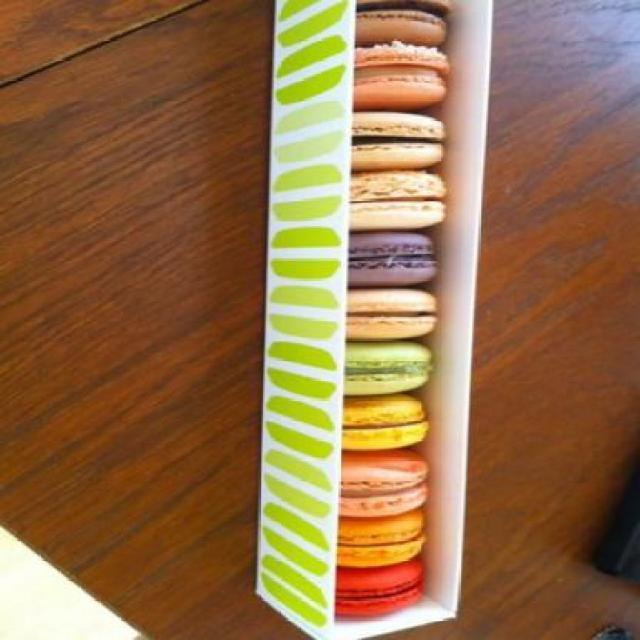Macaron: (332, 1, 462, 624)
